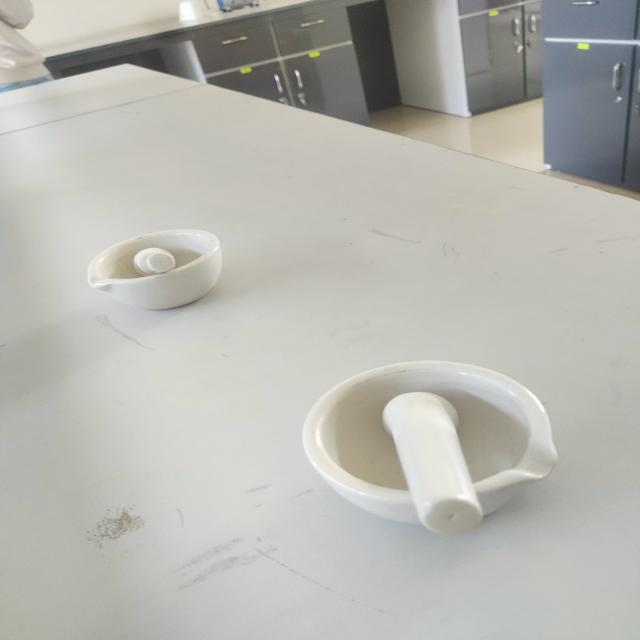Porcelain_Mortar Pestle: (263, 337, 594, 552), (50, 199, 272, 335)
